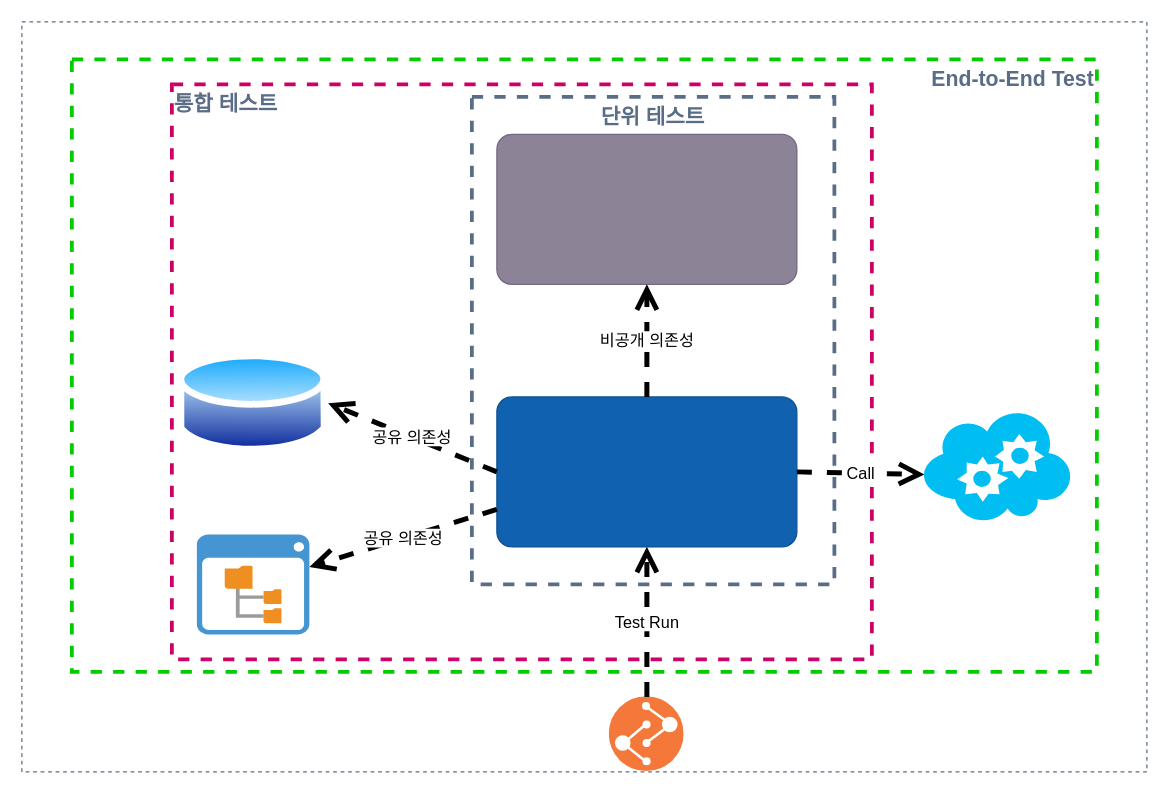
This 1169x794 diagram has some shape labels left out. Each missing label, with the centre of its shape:
External system name [Software System] Description of external software system.: the point at 646,208
System name [Software System] Description of software system.: the point at 646,471
